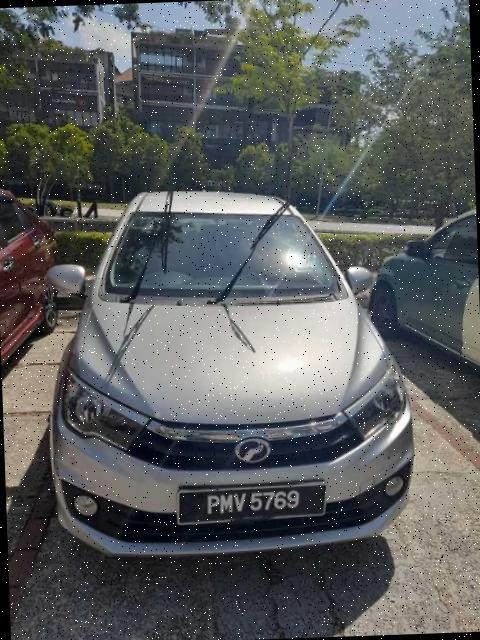License_Plate: (176, 481, 329, 526)
car: (41, 182, 420, 564)
